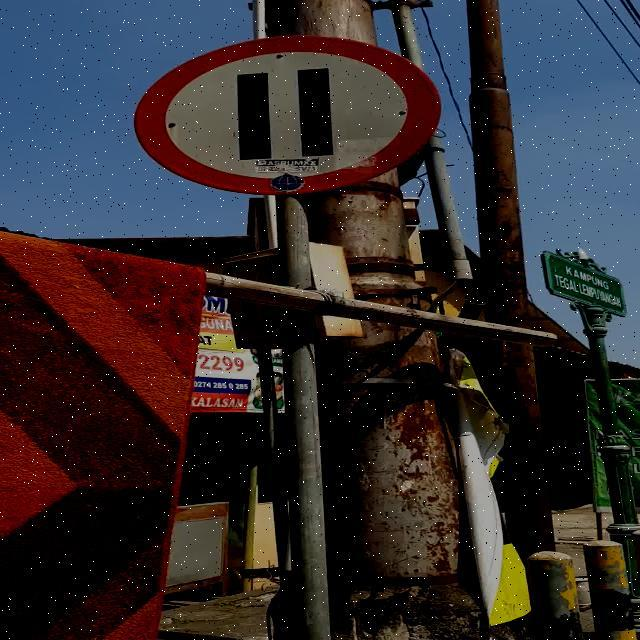Larangan Muatan - 10 ton: (134, 36, 441, 194)
